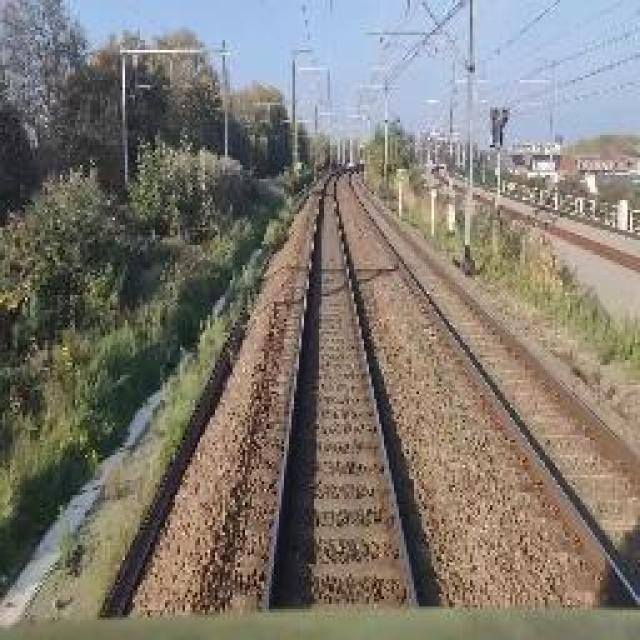rail: (253, 166, 451, 612)
